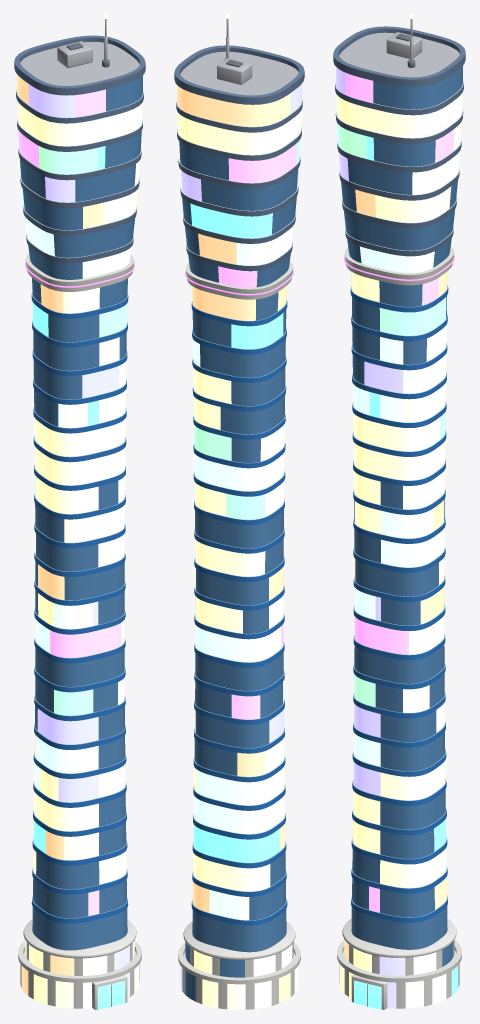
Rendered from arranha_ceu_topo_alargado.glb.
3 renders of one model, left to right at view 1: azimuth 30°, elevation 25°; view 2: azimuth 150°, elevation 25°; view 3: azimuth 330°, elevation 25°, orthographic.
Visible parts, largest first — view 1: arranha_ceu_topo_alargado; view 2: arranha_ceu_topo_alargado; view 3: arranha_ceu_topo_alargado.
Boxes of the visible parts, x1,y1,x2,y2 form: arranha_ceu_topo_alargado: (14, 14, 145, 1009); arranha_ceu_topo_alargado: (174, 14, 304, 1009); arranha_ceu_topo_alargado: (333, 14, 465, 1009).
Bounding box in the file's own units: 12.5 × 108 × 12.64.
11 materials, 1 textured.
